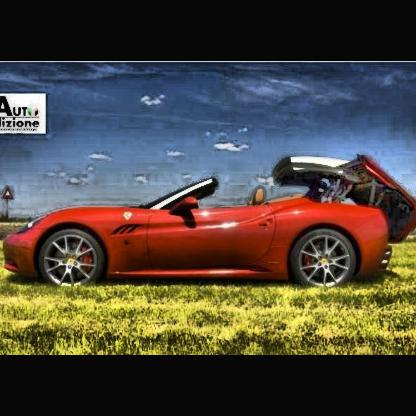Ferrari California Convertible 2012: (6, 155, 416, 287)
